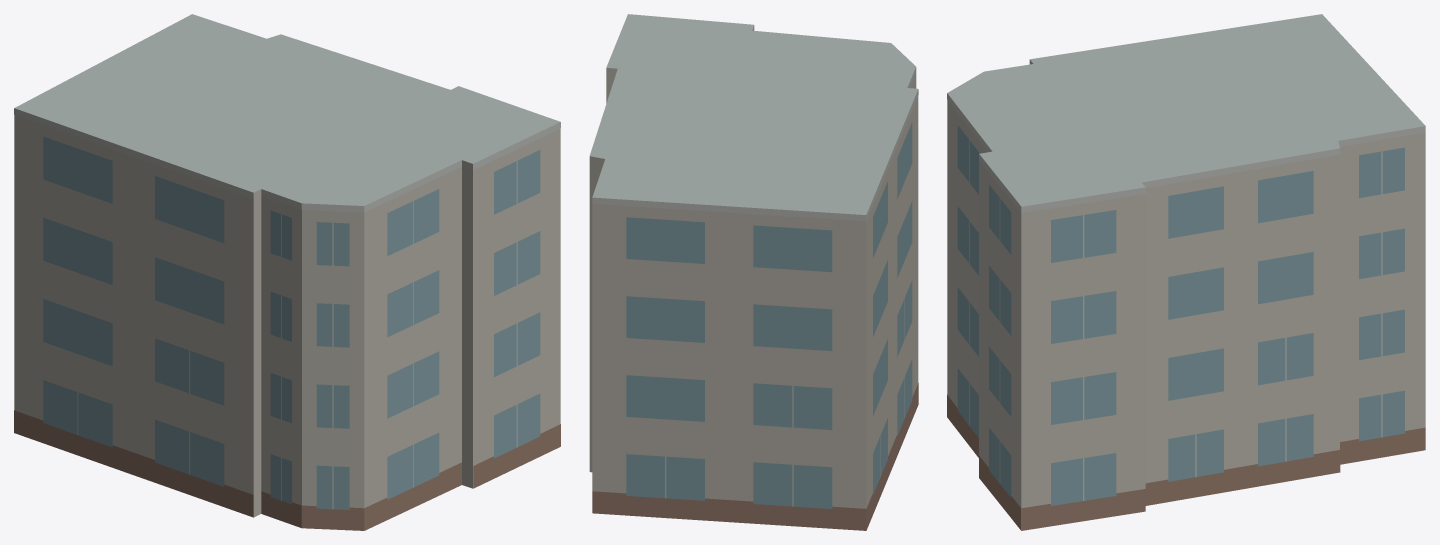
Rendered from survey-upis-32821096.glb.
The picture shows the model from 3 angles, left to right: view 1: azimuth 30°, elevation 25°; view 2: azimuth 150°, elevation 25°; view 3: azimuth 270°, elevation 25°; orthographic projection. The views are drawn at different scales.
Visible parts, largest first — view 1: survey-upis-32821096.tmp; view 2: survey-upis-32821096.tmp; view 3: survey-upis-32821096.tmp.
Part boxes in pixels (<box>): survey-upis-32821096.tmp: <box>14,14,560,530</box>; survey-upis-32821096.tmp: <box>589,14,918,530</box>; survey-upis-32821096.tmp: <box>947,14,1425,530</box>.
Bounding box in the file's own units: 15.7 × 12.3 × 16.47.
